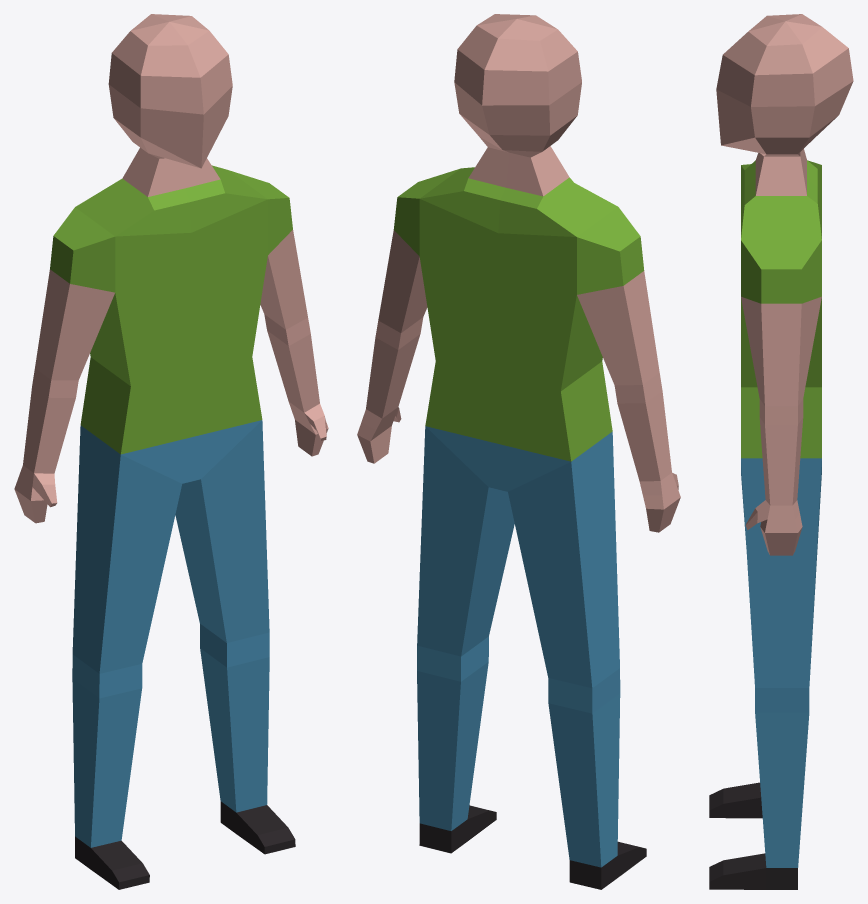
Rendered from man.fbx.
3 views of the same model, side by side, from view 1: azimuth 30°, elevation 25°; view 2: azimuth 150°, elevation 25°; view 3: azimuth 270°, elevation 25° (orthographic). The views are drawn at different scales.
Parts seen in each view (by area): view 1: Cube; view 2: Cube; view 3: Cube.
Part boxes in pixels (x1,y1,x2,y2): Cube: (14,14,328,889); Cube: (357,14,680,889); Cube: (709,14,853,889).
Bounding box in the file's own units: 352 × 926 × 147.
